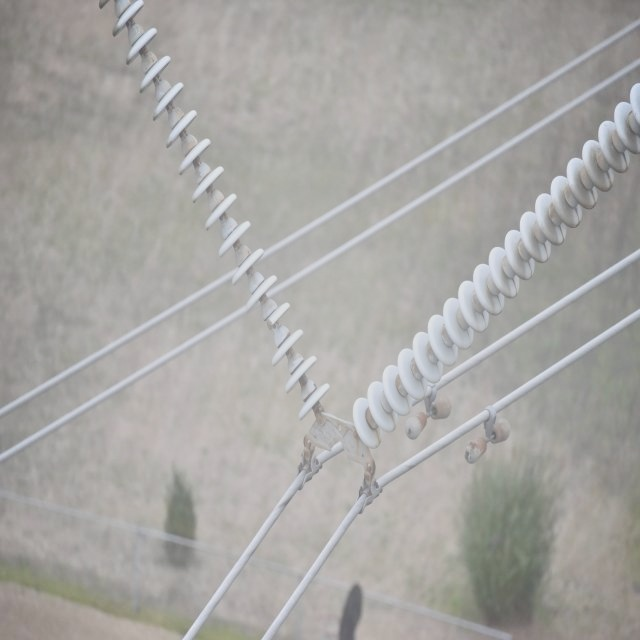broken: (263, 316, 280, 334)
insulator: (352, 80, 640, 452), (102, 0, 331, 423)
